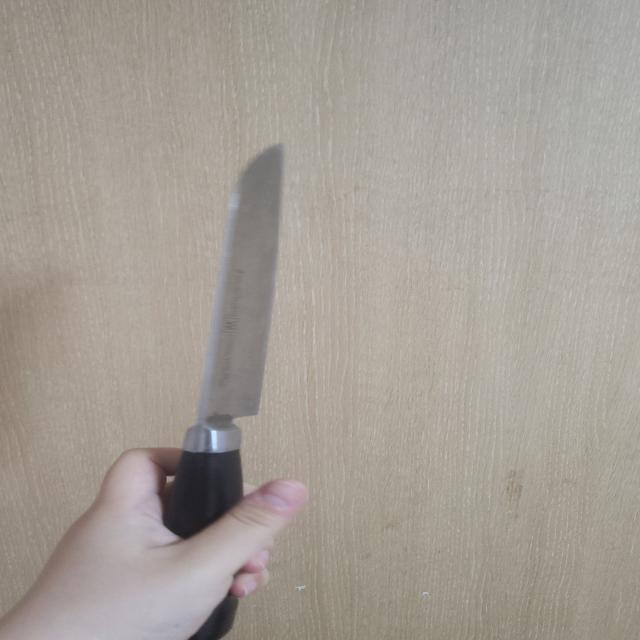knife: (163, 144, 284, 640)
